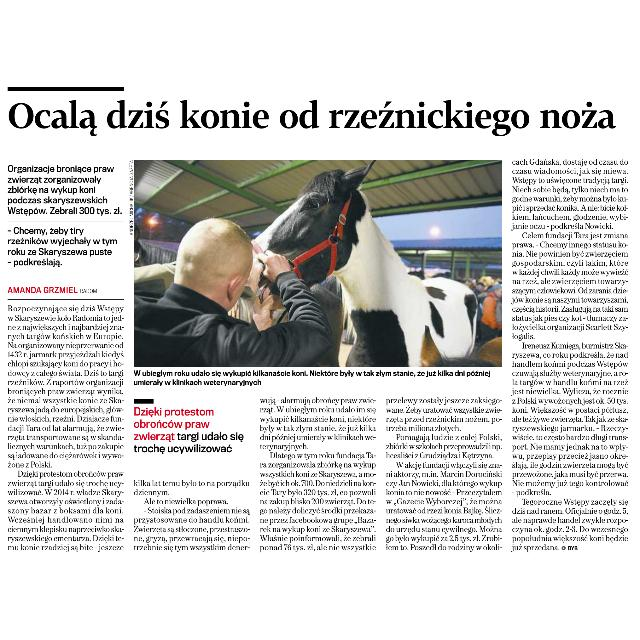author: (5, 282, 79, 298)
body: (510, 156, 634, 556), (2, 301, 128, 555), (256, 397, 380, 555), (384, 396, 506, 556), (132, 475, 252, 553), (132, 396, 252, 459)
caption: (131, 368, 499, 388)
image: (132, 157, 504, 369)
lead: (6, 162, 128, 270)
title: (7, 91, 621, 140)
